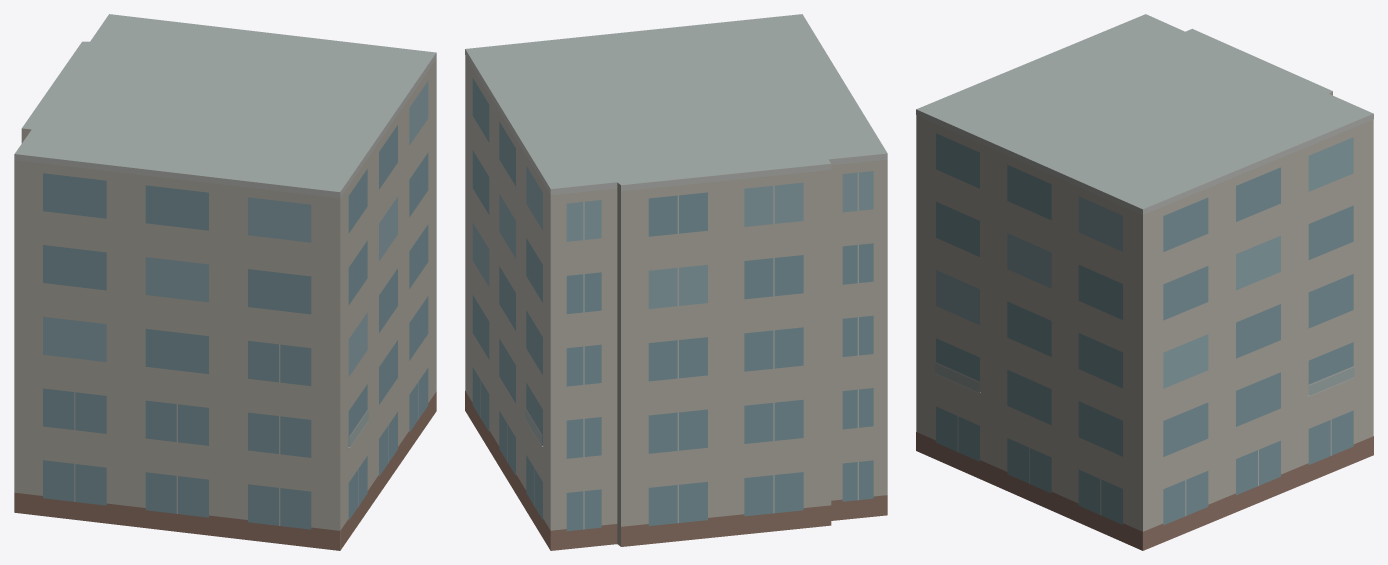
Rendered from survey-upis-33046454.glb.
The picture shows the model from 3 angles, left to right: view 1: azimuth 30°, elevation 25°; view 2: azimuth 150°, elevation 25°; view 3: azimuth 270°, elevation 25°; orthographic projection. The views are drawn at different scales.
Visible parts, largest first — view 1: survey-upis-33046454.tmp; view 2: survey-upis-33046454.tmp; view 3: survey-upis-33046454.tmp.
Part boxes in pixels (x1,y1,x2,y2): survey-upis-33046454.tmp: (14, 14, 436, 550); survey-upis-33046454.tmp: (465, 14, 887, 550); survey-upis-33046454.tmp: (916, 14, 1373, 550).
Bounding box in the file's own units: 17.8 × 14.5 × 17.62.
